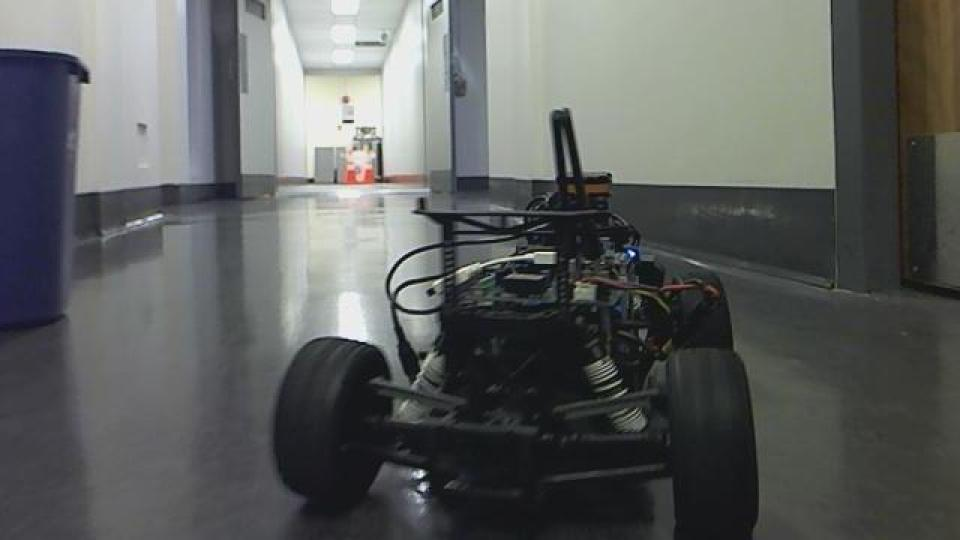car: (268, 105, 762, 537)
